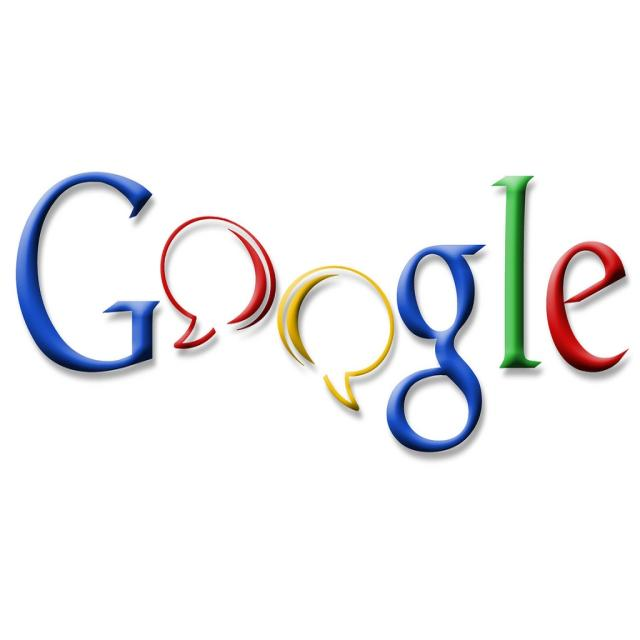google: (11, 167, 638, 467)
